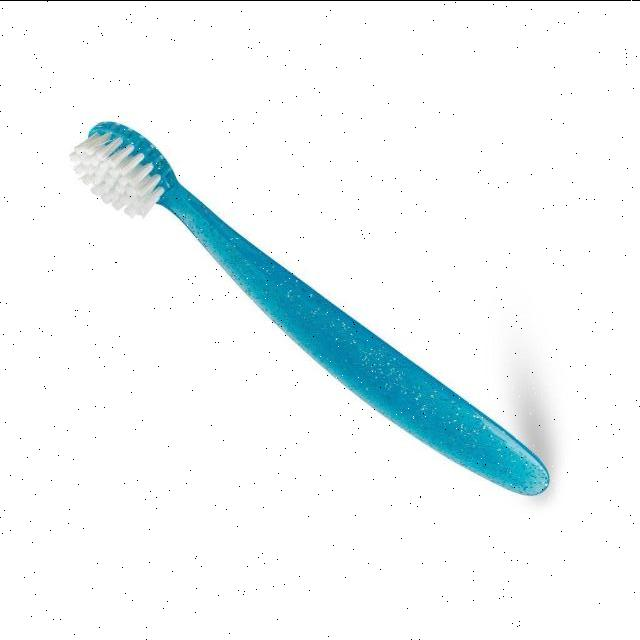toothbrush: (58, 122, 566, 590)
